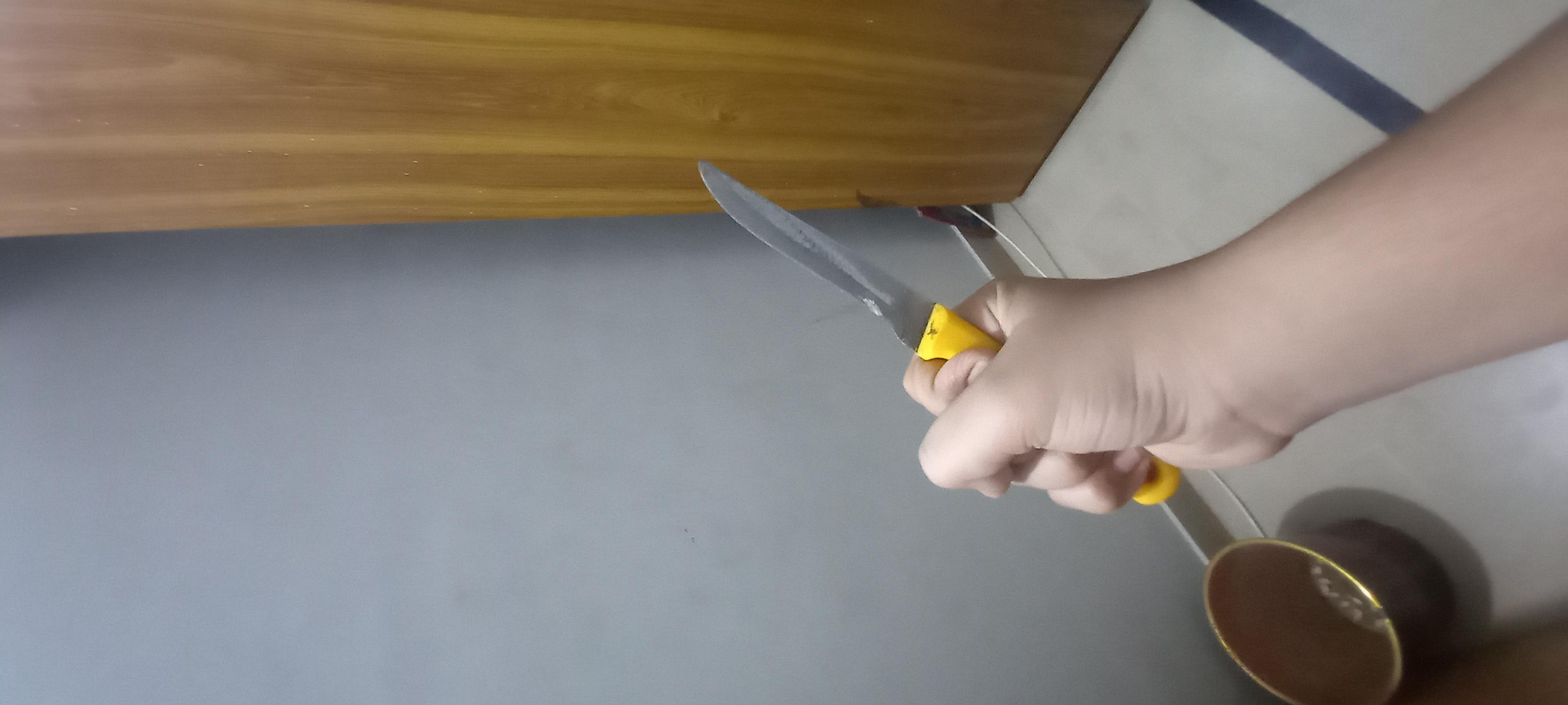knives: (388, 307, 1211, 529)
